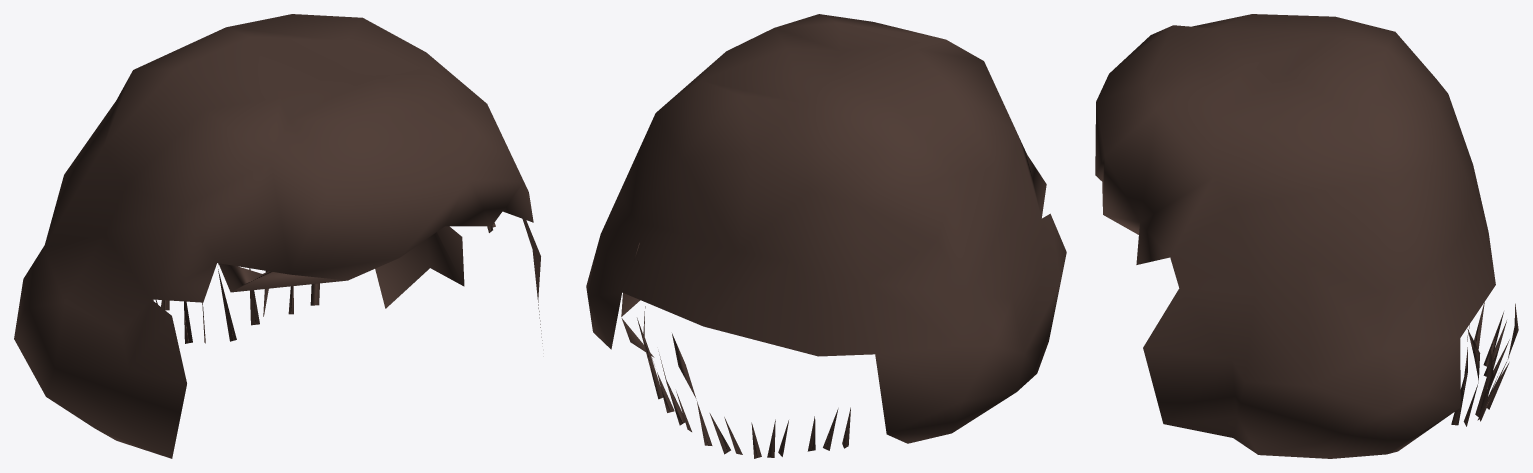
Rendered from blunt-bob.glb.
3 renders of one model, left to right at view 1: azimuth 30°, elevation 25°; view 2: azimuth 150°, elevation 25°; view 3: azimuth 270°, elevation 25°, orthographic. The views are drawn at different scales.
Visible parts, largest first — view 1: Hair, HairPulledRootStrands; view 2: Hair, HairPulledRootStrands; view 3: Hair, HairPulledRootStrands.
Boxes of the visible parts, left/top/right/bottom form: Hair: left=14, top=14, right=542, bottom=458; HairPulledRootStrands: left=152, top=223, right=495, bottom=343; Hair: left=586, top=14, right=1066, bottom=443; HairPulledRootStrands: left=633, top=243, right=850, bottom=458; Hair: left=1095, top=14, right=1495, bottom=458; HairPulledRootStrands: left=1451, top=302, right=1518, bottom=426.
Size of the model in its own units: 0.5095 by 0.4044 by 0.4345.
